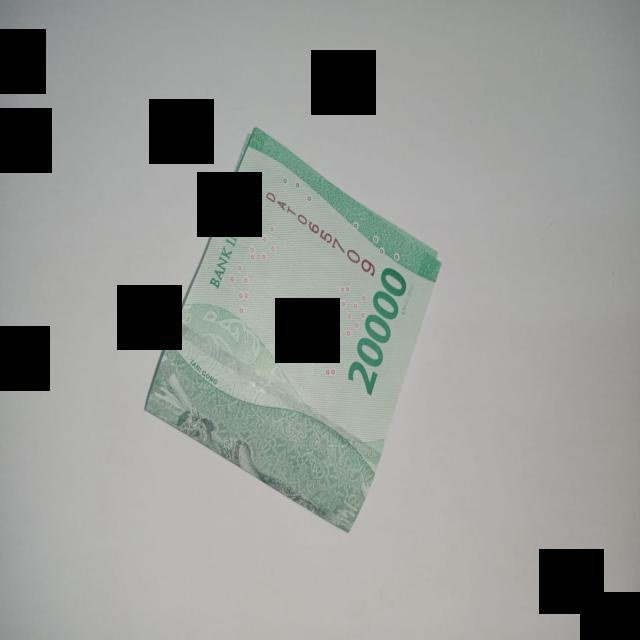dua puluh ribu rupiah: (146, 128, 440, 530)
